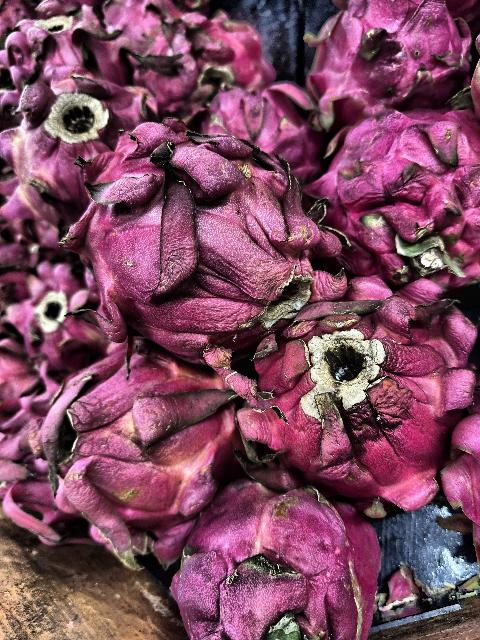buah-naga-matang: (244, 269, 472, 503), (75, 126, 310, 340), (37, 348, 238, 538), (172, 484, 388, 640), (312, 103, 480, 287), (10, 76, 156, 224), (294, 0, 472, 116), (130, 9, 264, 102), (6, 264, 103, 366), (209, 87, 321, 173), (2, 15, 128, 86), (1, 405, 61, 531)
